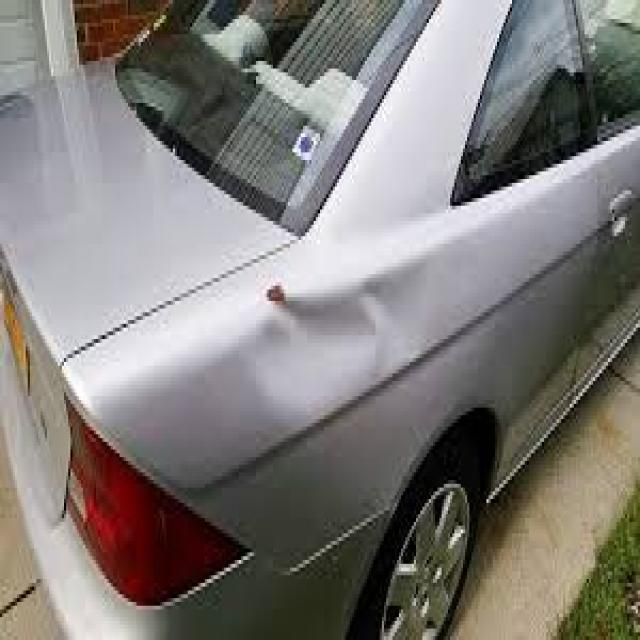minor: (215, 257, 451, 411)
